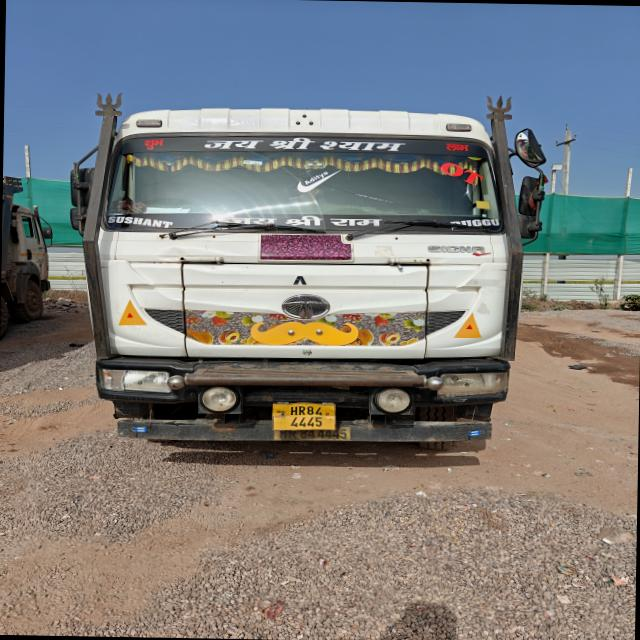license_plate: (273, 403, 336, 430), (274, 428, 350, 441)
